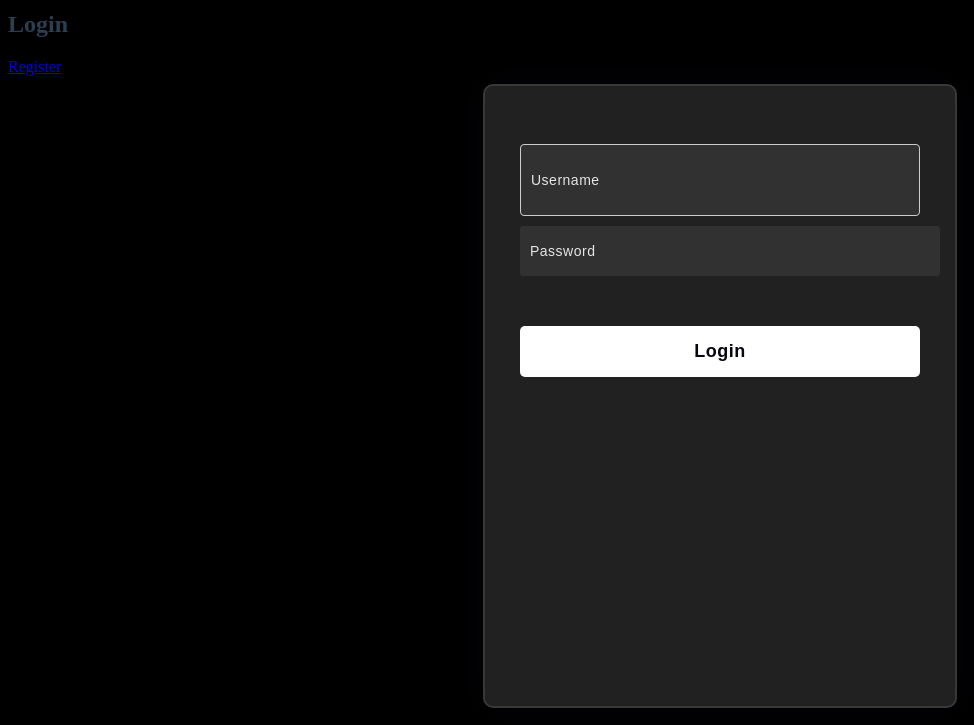
Scenario: Login Component Basic Tests › shows error message on wrong credentials
The width and height of the screenshot is (974, 725).
Step 1. Type "wronguser" into the field with placeholder "Username" → (720, 180), box [520,144,920,216]
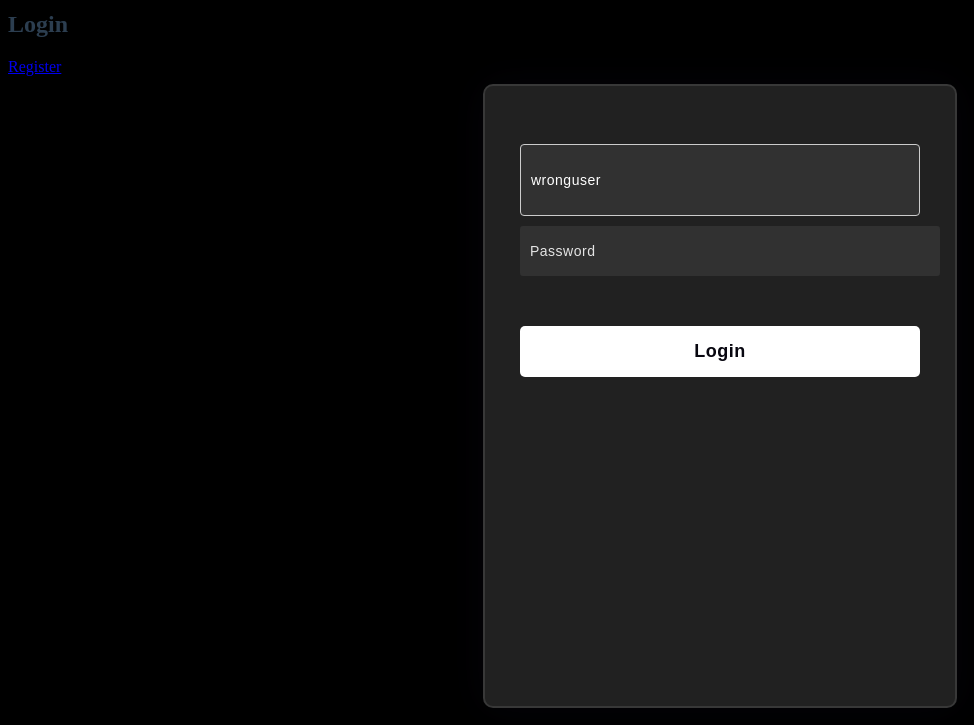
Step 2. Type "wrongpass" into the password field with placeholder "Password" → (730, 251), box [520,226,940,276]
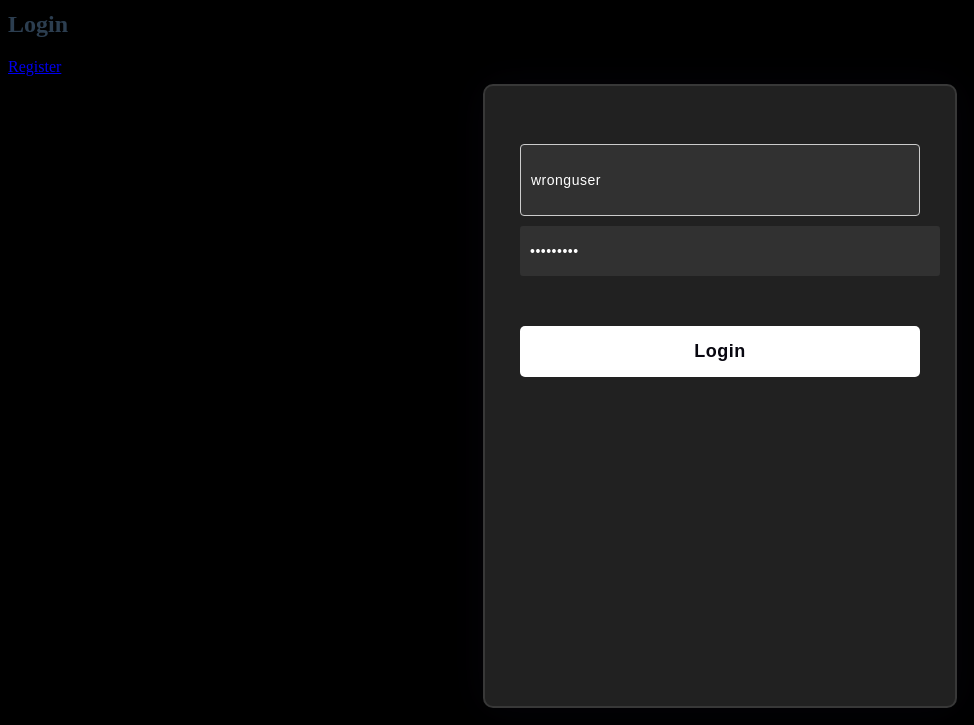
Step 3. Click the button "Login" → (720, 352), box [520,326,920,377]
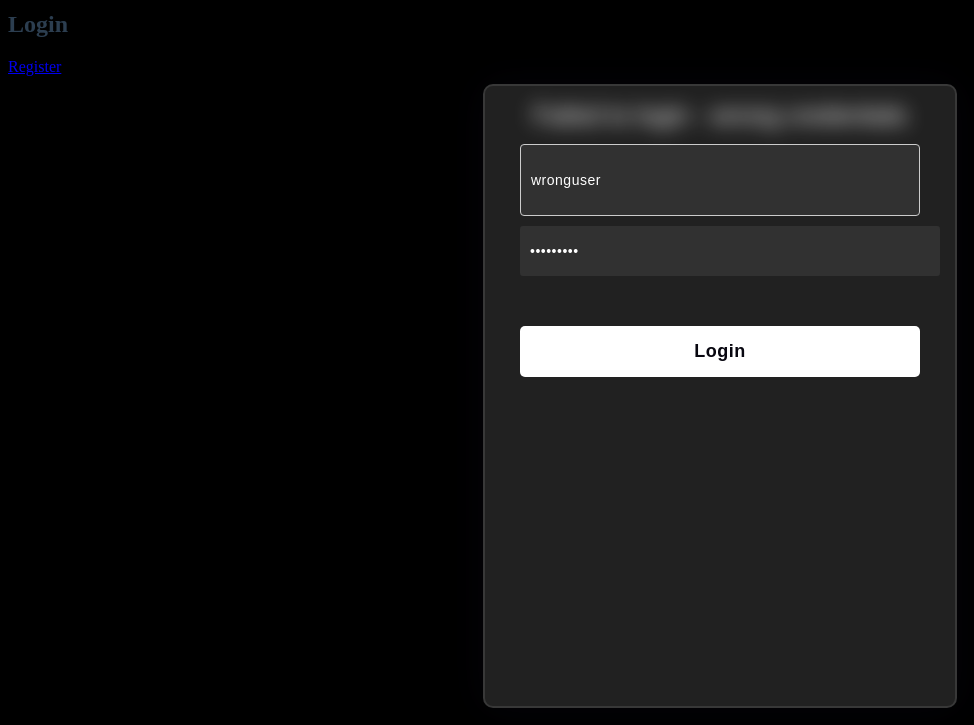
Check: the text "Failed to login - wrong credentials" is shown, box [533,101,907,129]
